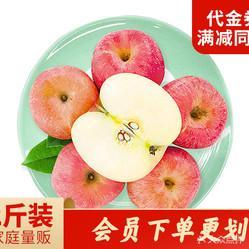apple: (70, 73, 182, 182), (25, 67, 99, 139), (161, 75, 228, 149), (50, 142, 122, 208), (89, 28, 165, 88), (126, 149, 201, 209)
